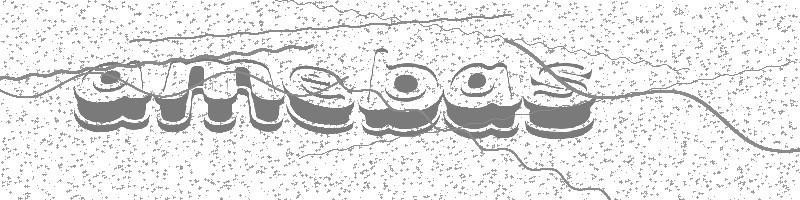a: (444, 61, 524, 140), (71, 59, 151, 133)
b: (357, 46, 444, 139)
e: (280, 65, 356, 135)
m: (156, 58, 285, 134)
s: (523, 62, 596, 140)
